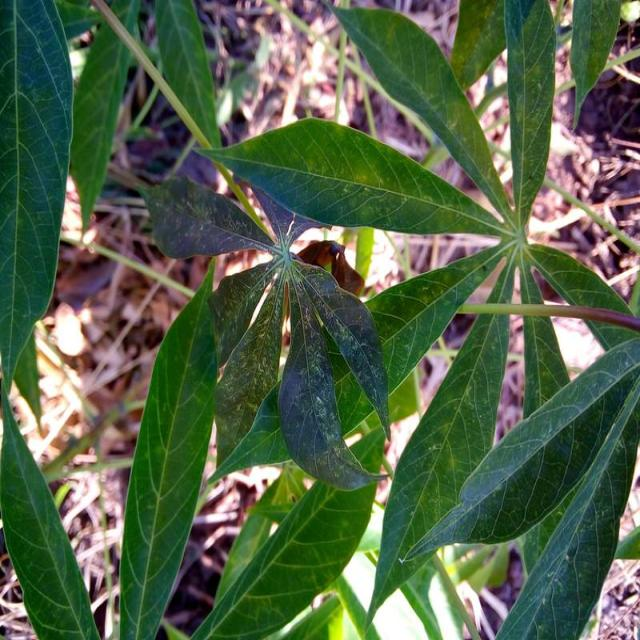cassava leaf: (1, 0, 638, 638), (192, 115, 510, 237), (118, 259, 219, 638), (0, 0, 74, 397)
